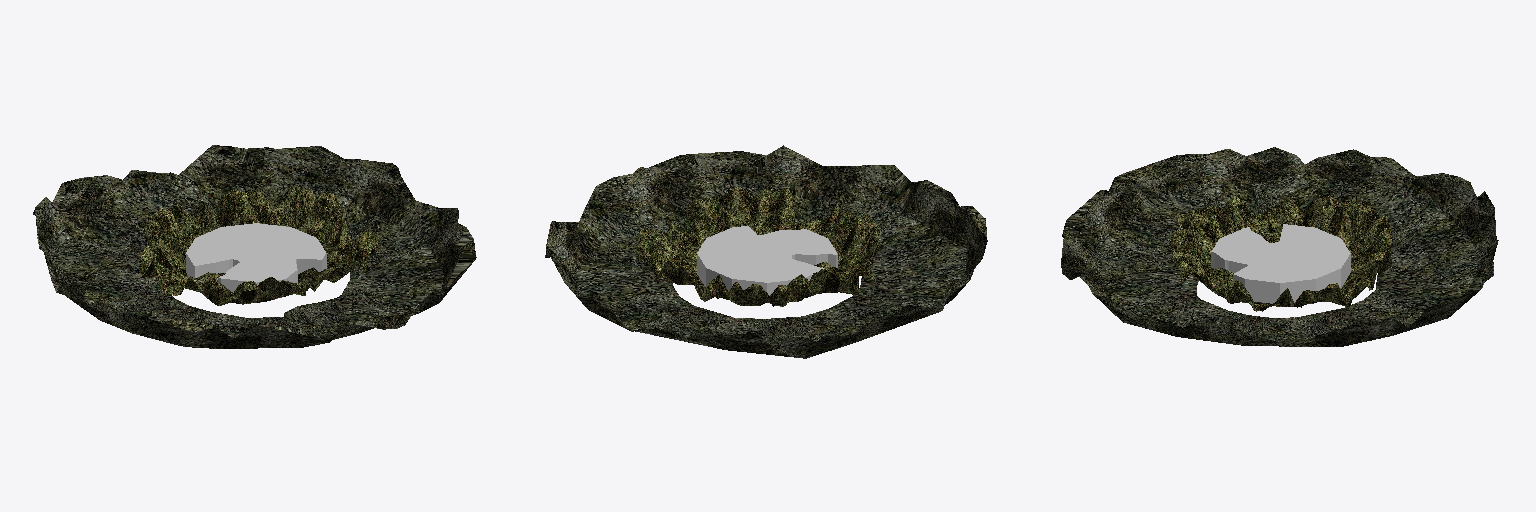
3 renders of one model, left to right at view 1: azimuth 30°, elevation 25°; view 2: azimuth 150°, elevation 25°; view 3: azimuth 270°, elevation 25°, orthographic.
Visible parts, largest first — view 1: LochNess2, LochNess2CollisionBox; view 2: LochNess2, LochNess2CollisionBox; view 3: LochNess2, LochNess2CollisionBox.
Boxes of the visible parts, x1,y1,x2,y2 form: LochNess2: [33, 145, 476, 348]; LochNess2CollisionBox: [186, 223, 326, 302]; LochNess2: [545, 145, 987, 358]; LochNess2CollisionBox: [697, 226, 837, 295]; LochNess2: [1061, 147, 1498, 346]; LochNess2CollisionBox: [1211, 224, 1350, 303].
Bounding box in the file's own units: 15763 × 1769 × 15953.
Materials: 4 (3 with a texture image).